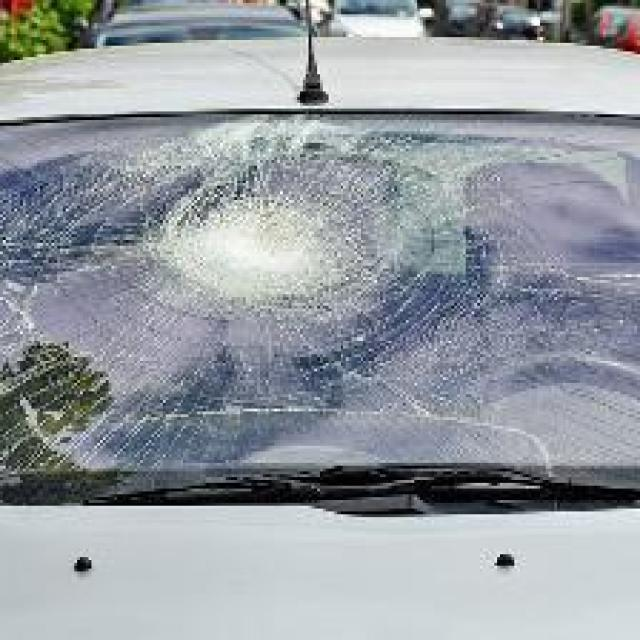damaged: (2, 122, 568, 452)
